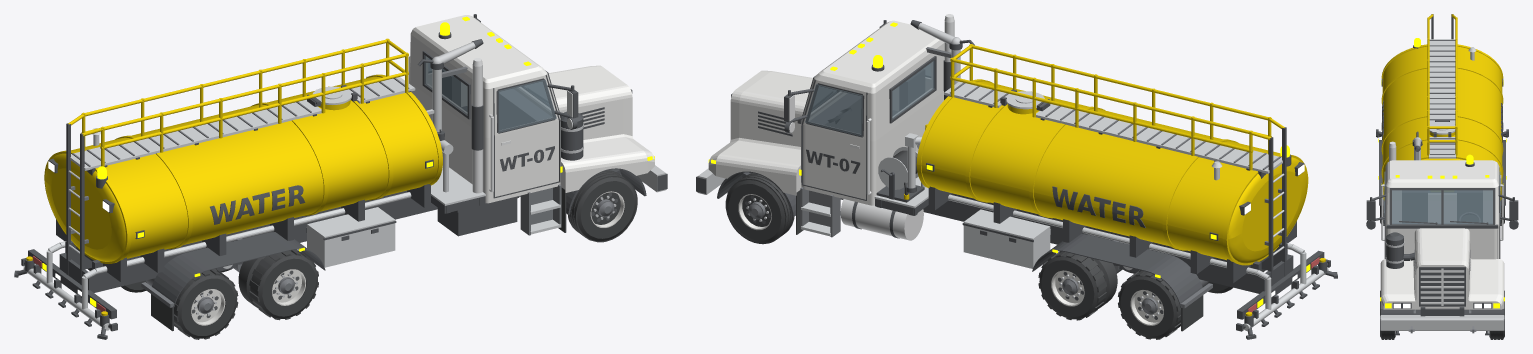
Rendered from Water_Truck_4000gal.glb.
3 renders of one model, left to right at view 1: azimuth 30°, elevation 25°; view 2: azimuth 150°, elevation 25°; view 3: azimuth 270°, elevation 25°, orthographic. The views are drawn at different scales.
Visible parts, largest first — view 1: tank, tie_rod, hood, step_treads, tyres, wheel_hubs, windscreen, wheel_rims, grille_bars, wheel_nuts, front_indicators; view 2: tank, hood, tie_rod, step_treads, tyres, wheel_hubs, windscreen, grille_bars, wheel_rims, wheel_nuts, front_indicators; view 3: hood, tank, tie_rod, windscreen, step_treads, wheel_nuts, grille_bars, wheel_hubs, tyres, front_indicators, headlamps.
Boxes of the visible parts, box(x1,y1,x2,y2) form: tank: box(26, 38, 442, 315); tie_rod: box(14, 14, 667, 339); hood: box(409, 15, 654, 203); step_treads: box(23, 69, 560, 330); tyres: box(88, 170, 637, 339); wheel_hubs: box(71, 66, 621, 314); windscreen: box(424, 55, 556, 132); wheel_rims: box(191, 191, 624, 325); grille_bars: box(408, 56, 572, 193); wheel_nuts: box(194, 42, 666, 317); front_indicators: box(42, 16, 654, 307); tank: box(904, 44, 1325, 316); hood: box(708, 20, 944, 205); tie_rod: box(696, 20, 1337, 339); step_treads: box(801, 49, 1328, 330); tyres: box(725, 150, 1265, 339); wheel_hubs: box(741, 47, 1281, 314); windscreen: box(805, 60, 934, 136); grille_bars: box(789, 14, 954, 240); wheel_rims: box(738, 194, 1163, 325); wheel_nuts: box(697, 23, 1161, 317); front_indicators: box(708, 22, 1310, 307); hood: box(1380, 160, 1504, 309); tank: box(1381, 14, 1503, 200); tie_rod: box(1366, 14, 1518, 335); windscreen: box(1384, 171, 1500, 224); step_treads: box(1414, 39, 1501, 184); wheel_nuts: box(1380, 137, 1504, 330); grille_bars: box(1381, 141, 1503, 305); wheel_hubs: box(1387, 40, 1497, 333); tyres: box(1380, 205, 1504, 339); front_indicators: box(1378, 38, 1506, 308); headlamps: box(1393, 303, 1491, 308).
Size of the model in its own units: 195 by 67.73 by 61.
